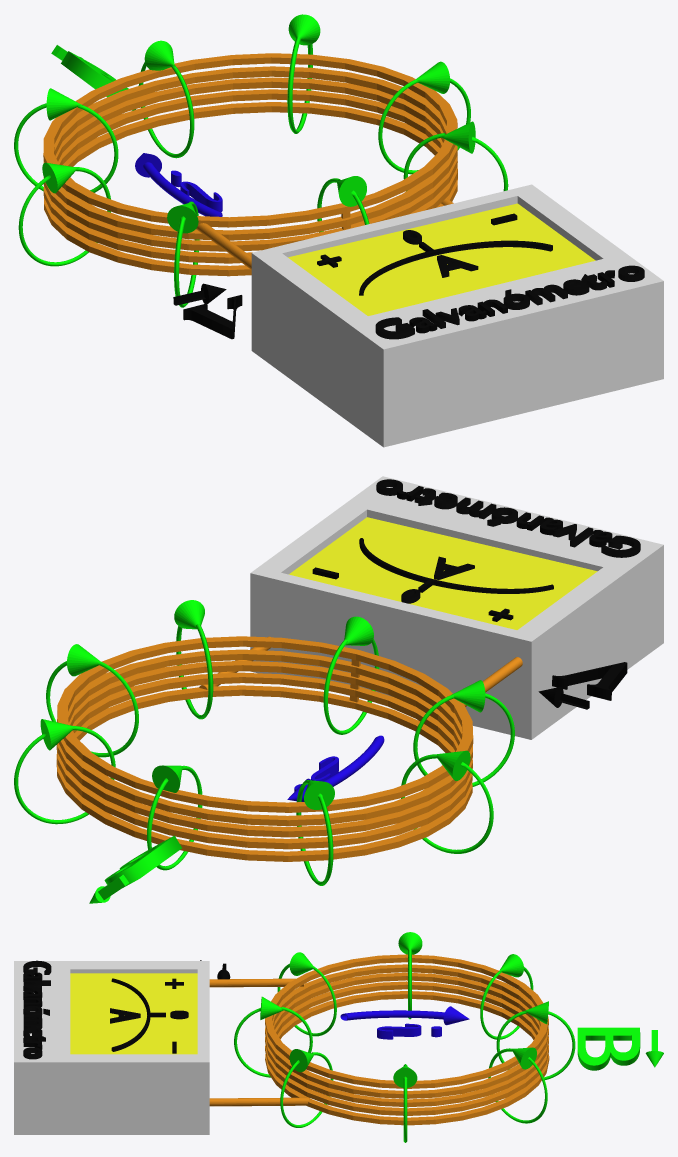
The model's file is multimetro1.dae.
3 renders of one model, top to bottom at view 1: azimuth 30°, elevation 25°; view 2: azimuth 150°, elevation 25°; view 3: azimuth 270°, elevation 25°, orthographic. The views are drawn at different scales.
Parts seen in each view (by area): view 1: Cono.010, Cube.001, Cube.002, Cono.001, NurbsCurve, Texto.005, Texto.011; view 2: Cono.010, Cube.001, Cube.002, Cono.001, Texto.005, NurbsCurve; view 3: Cono.010, Cube.001, Cube.002, Texto.005, NurbsCurve, Texto.011.
Part boxes in pixels (<box>): Cono.010: <box>43,53,663,447</box>; Cube.001: <box>14,14,508,307</box>; Cube.002: <box>18,40,470,266</box>; Cono.001: <box>173,283,242,339</box>; NurbsCurve: <box>135,153,222,216</box>; Texto.005: <box>51,45,135,110</box>; Texto.011: <box>171,170,222,212</box>; Cono.010: <box>56,476,663,861</box>; Cube.001: <box>14,600,514,885</box>; Cube.002: <box>46,616,493,870</box>; Cono.001: <box>538,662,627,709</box>; Texto.005: <box>89,835,181,903</box>; NurbsCurve: <box>287,735,384,801</box>; Cono.010: <box>14,954,549,1134</box>; Cube.001: <box>277,952,547,1127</box>; Cube.002: <box>234,932,575,1142</box>; Texto.005: <box>577,1027,663,1070</box>; NurbsCurve: <box>340,1006,469,1025</box>; Texto.011: <box>377,1023,441,1039</box>.
Bounding box in the file's own units: 1.36 × 2.31 × 0.337.
